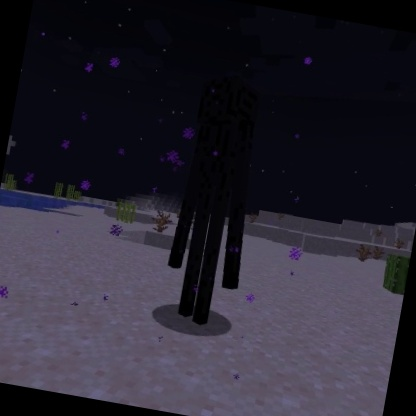enderman: (152, 68, 278, 335)
